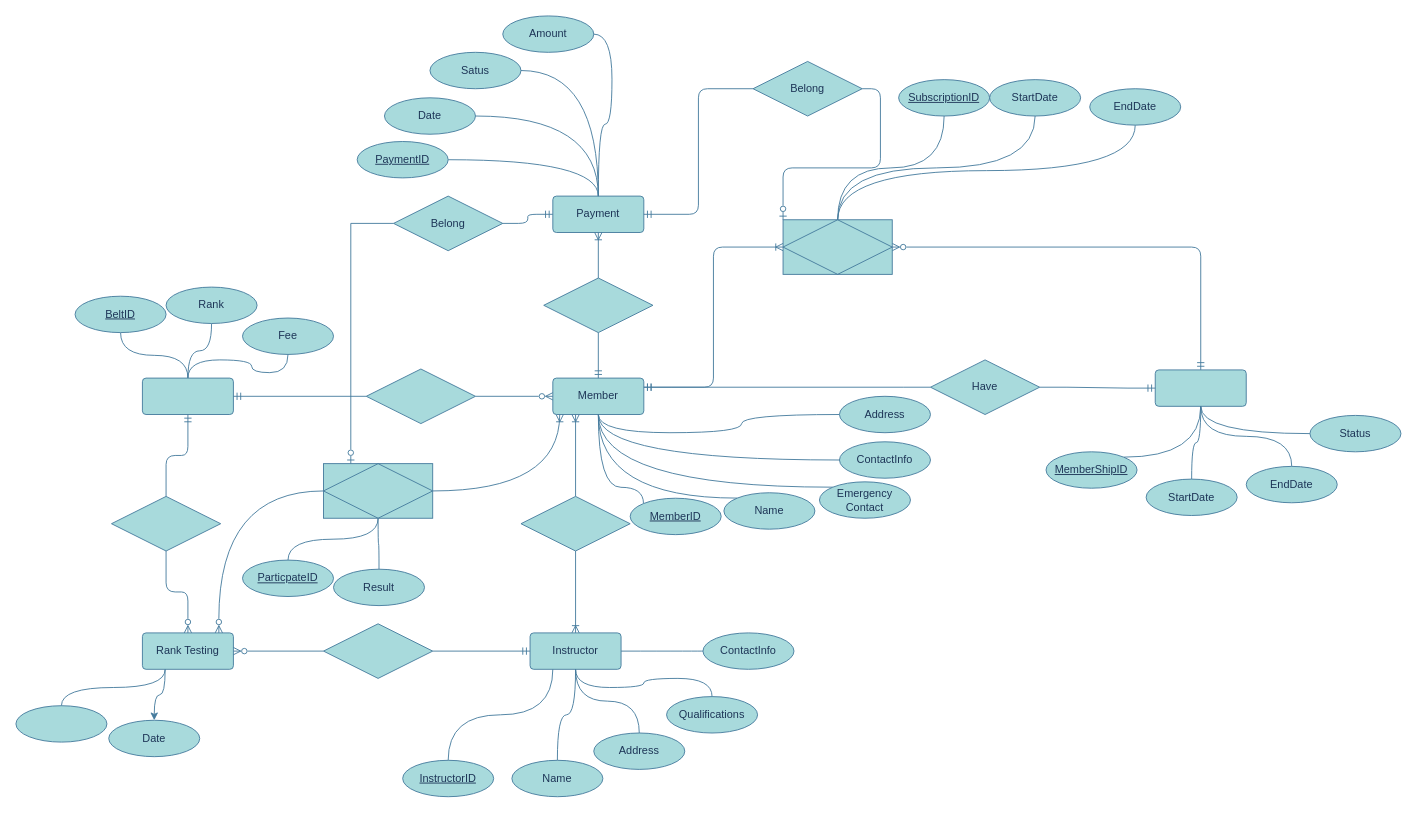
The diagram is 1417 pixels wide and 813 high, and some of its shapes have lost their labels. The centre of each missing label's shape, as x and y in pixels:
Belt: the point at 187,396
conducted: the point at 378,650
Membership: the point at 1200,387
Own: the point at 420,396
participate: the point at 378,490
Pay: the point at 598,305
subscripe: the point at 837,246
Test: the point at 166,523
TestID: the point at 61,723
train: the point at 575,523
